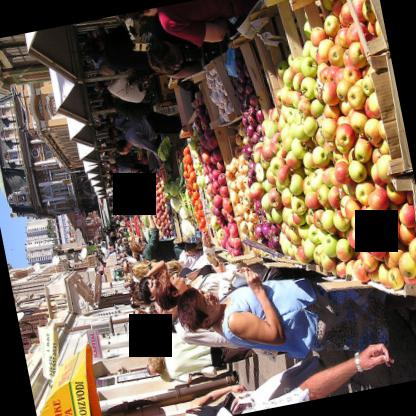handbag: (221, 300, 318, 358), (260, 265, 304, 281), (222, 390, 243, 415), (188, 364, 216, 378)
